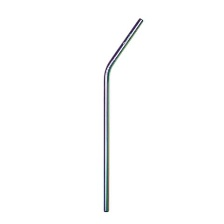drinking_straw: (95, 13, 149, 216)
